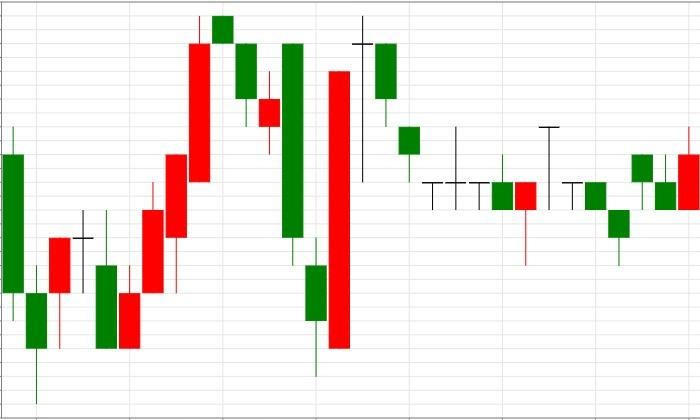hammer_rise: (352, 16, 536, 266)
